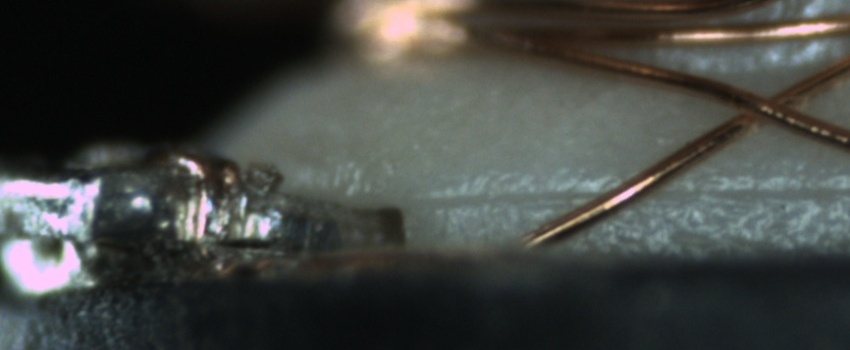CL: (720, 78, 816, 133)
DL: (437, 160, 849, 222)
TE: (156, 140, 243, 189)
